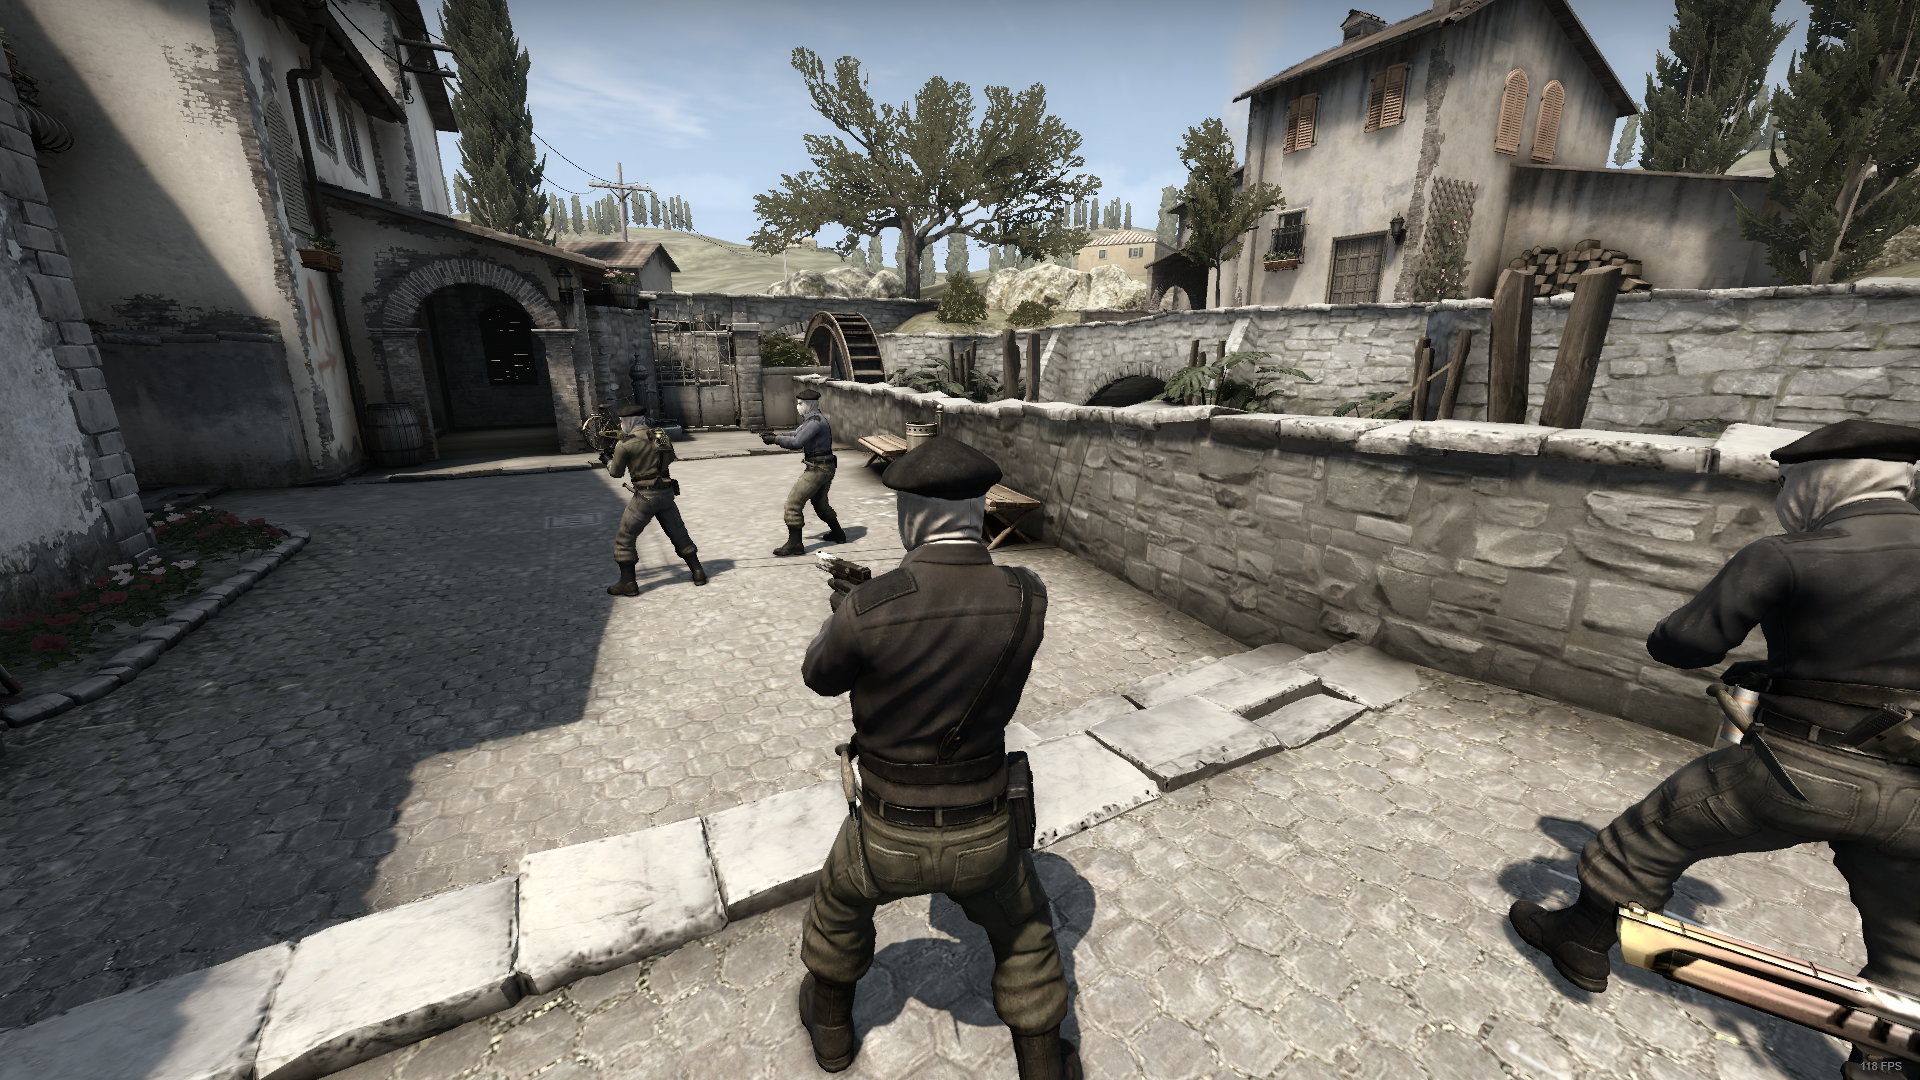t: (1511, 419, 1920, 1080), (802, 433, 1083, 1080), (596, 404, 709, 596), (761, 390, 847, 558)
